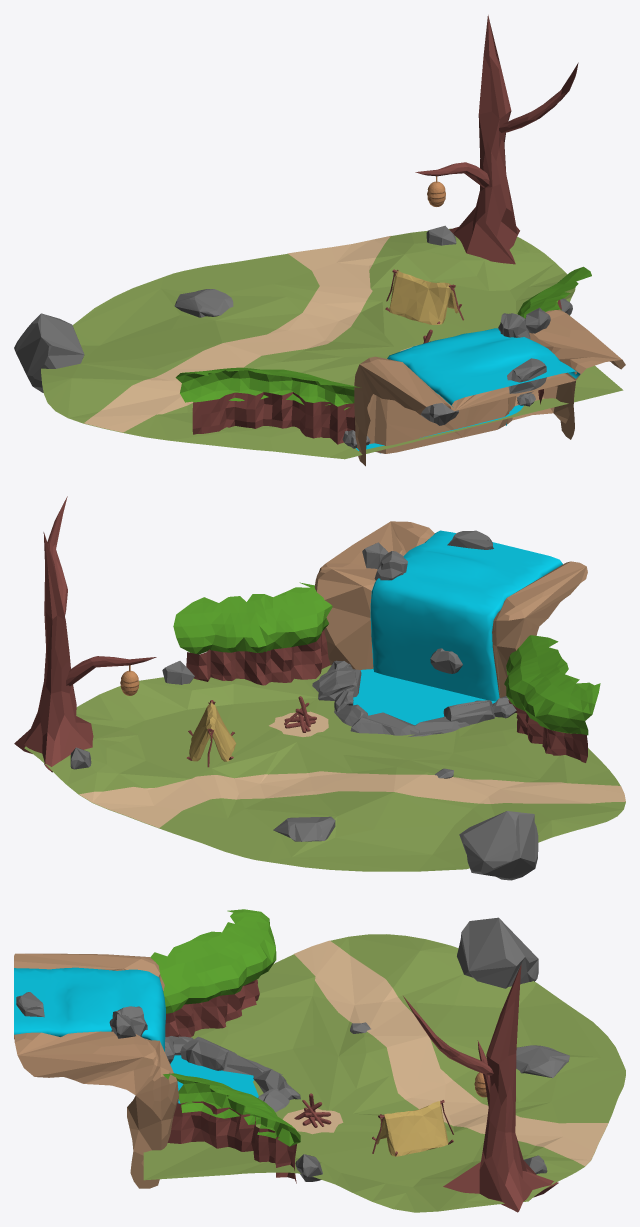
The model's file is ParticleEnvironment.fbx.
The picture shows the model from 3 angles, top to bottom: view 1: azimuth 30°, elevation 25°; view 2: azimuth 150°, elevation 25°; view 3: azimuth 270°, elevation 25°; orthographic projection. The views are drawn at different scales.
Visible parts, largest first — view 1: geoGround, geoWaterfallTerrain, geoPath, geoTree, geoWaterfall, geoForest, geoForestGreen2, geoRock15, geoTentCanvas1, geoRock14, geoForestGreen1, geoRock (+1 smaller); view 2: geoGround, geoWaterfall, geoPath, geoWaterfallTerrain, geoForestGreen1, geoTree, geoForestGreen2, geoForest1, geoRock15, geoPond, geoForest, geoTentCanvas1 (+10 smaller); view 3: geoGround, geoPath, geoWaterfallTerrain, geoTree, geoWaterfall, geoForestGreen2, geoForest1, geoRock15, geoForestGreen1, geoTentCanvas1, geoForest, geoPond (+10 smaller).
Part boxes in pixels (x1,y1,x2,y2): geoGround: (41, 228, 623, 459); geoWaterfallTerrain: (354, 309, 625, 466); geoPath: (84, 236, 390, 432); geoTree: (415, 15, 578, 264); geoWaterfall: (380, 328, 580, 453); geoForest: (192, 392, 355, 444); geoForestGreen2: (175, 367, 359, 410); geoRock15: (14, 313, 84, 392); geoTentCanvas1: (389, 271, 458, 324); geoRock14: (174, 289, 233, 317); geoForestGreen1: (517, 266, 591, 318); geoRock: (507, 358, 546, 393); geoGround: (24, 665, 625, 871); geoWaterfall: (370, 530, 562, 701); geoPath: (79, 771, 625, 827); geoWaterfallTerrain: (314, 521, 587, 697); geoForestGreen1: (173, 582, 332, 654); geoTree: (14, 496, 156, 772); geoForestGreen2: (504, 635, 600, 735); geoForest1: (186, 630, 330, 685); geoRock15: (459, 811, 538, 880); geoPond: (353, 669, 495, 725); geoForest: (508, 700, 587, 762); geoTentCanvas1: (189, 702, 236, 761); geoGround: (143, 934, 625, 1212); geoPath: (294, 940, 608, 1165); geoWaterfallTerrain: (14, 953, 178, 1188); geoTree: (403, 964, 558, 1212); geoWaterfall: (14, 967, 165, 1051); geoForestGreen2: (150, 909, 276, 1013); geoForest1: (167, 1101, 296, 1183); geoRock15: (457, 917, 538, 988); geoForestGreen1: (163, 1073, 300, 1146); geoTentCanvas1: (376, 1101, 448, 1156); geoForest: (165, 979, 259, 1037); geoPond: (170, 1055, 258, 1103).
Size of the model in its own units: 3050 by 1423 by 2855.
